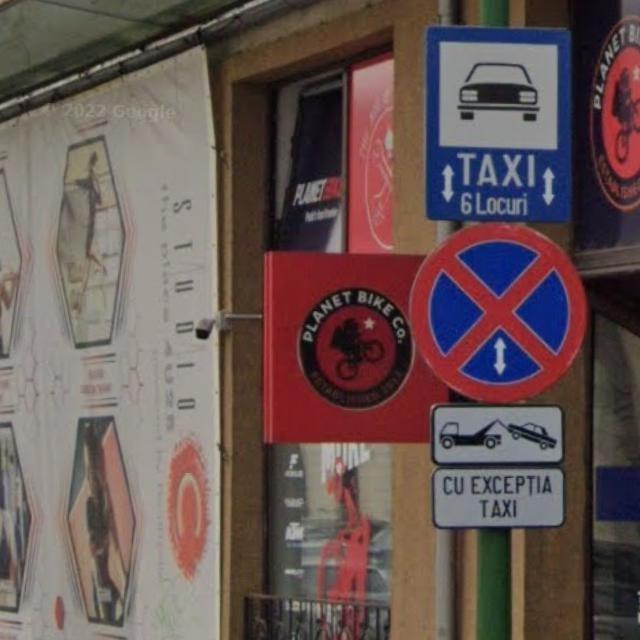forb_waiting: (406, 223, 588, 405)
